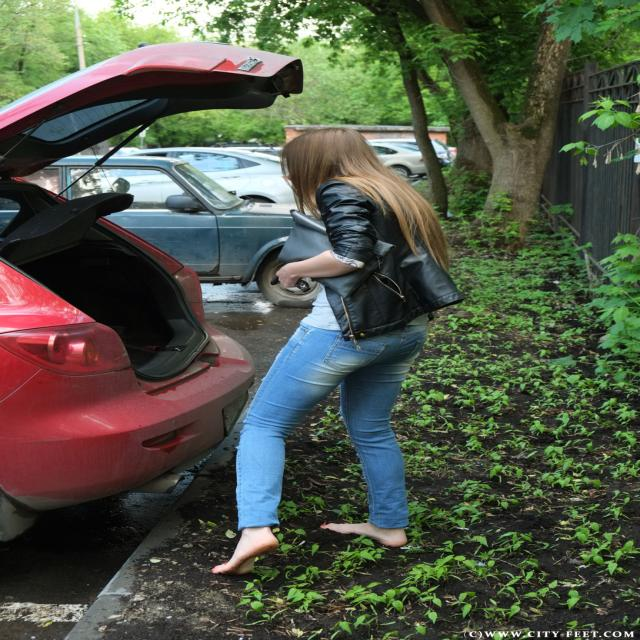Barefoots: (212, 535, 279, 575), (320, 522, 408, 547)
